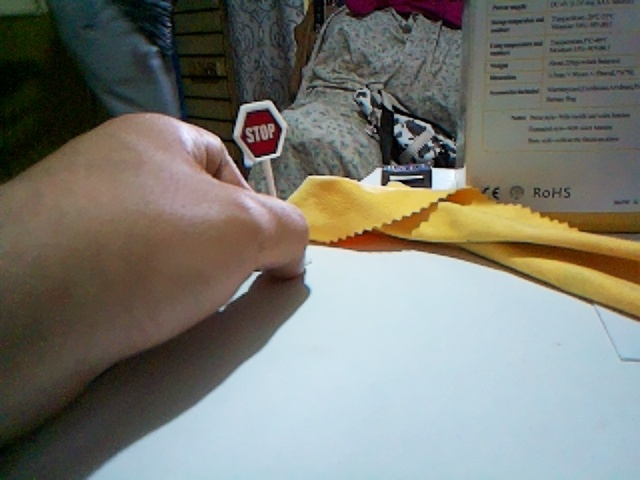stop_sign: (233, 100, 287, 167), (264, 165, 275, 195)
